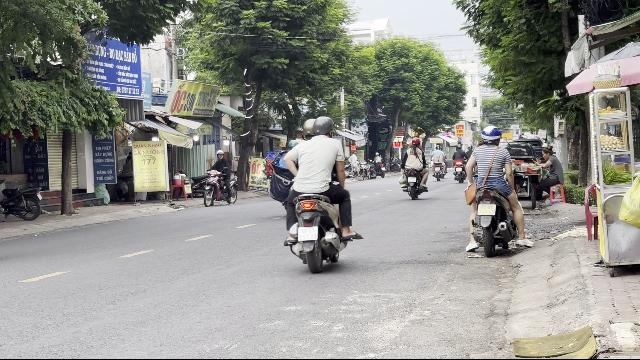helmet: (311, 115, 333, 136), (480, 126, 502, 144), (302, 118, 316, 138)
licenseplate: (298, 227, 318, 241), (478, 205, 496, 215)
motorcyclist: (279, 112, 361, 272), (461, 124, 527, 256)
